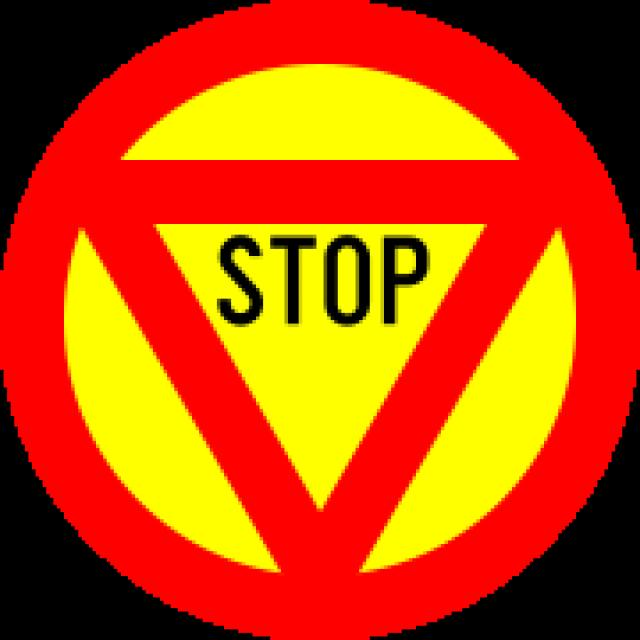Traffic sign: (32, 36, 605, 602)
